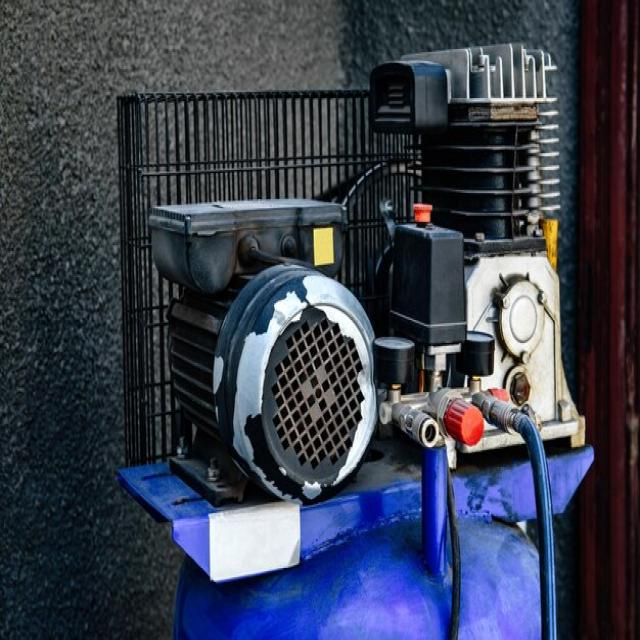compressor: (120, 32, 595, 630)
corrosion detected: (211, 260, 379, 504), (260, 306, 367, 488), (493, 271, 547, 364)
